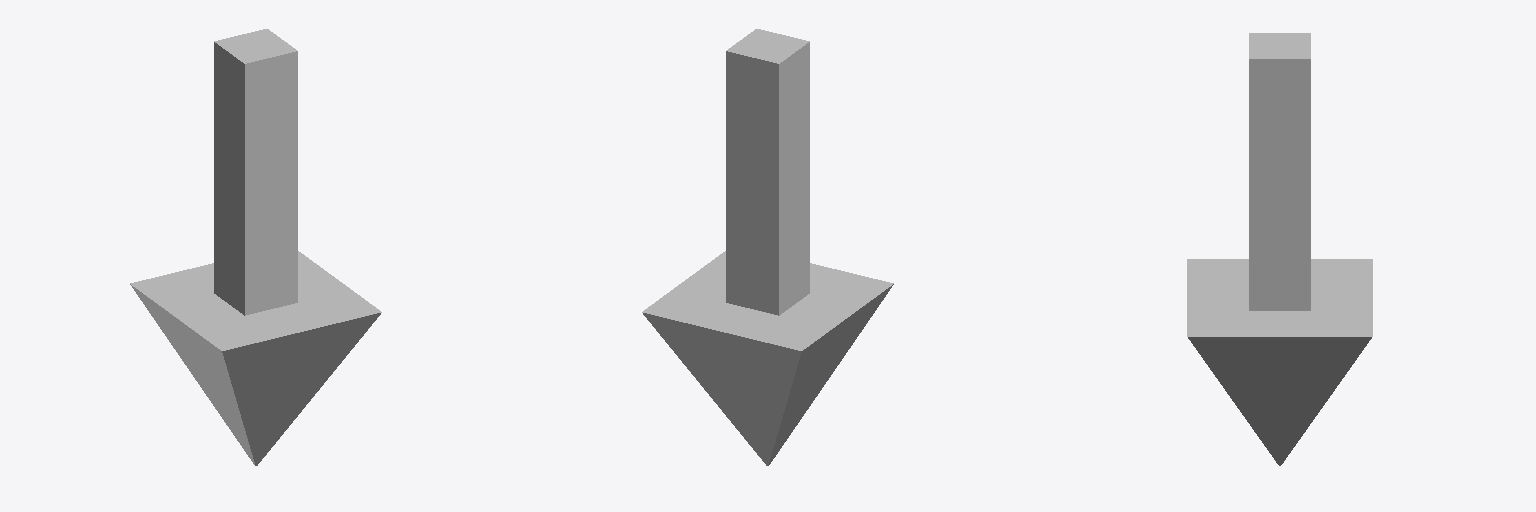
Rendered from arrow.obj.
The picture shows the model from 3 angles: view 1: azimuth 30°, elevation 25°; view 2: azimuth 150°, elevation 25°; view 3: azimuth 270°, elevation 25°; orthographic projection.
Visible parts, largest first — view 1: Cube; view 2: Cube; view 3: Cube.
Boxes of the visible parts, <box> form: Cube: <box>130,29,381,465</box>; Cube: <box>642,29,893,465</box>; Cube: <box>1187,33,1372,465</box>.
Bounding box in the file's own units: 2 × 5 × 2.